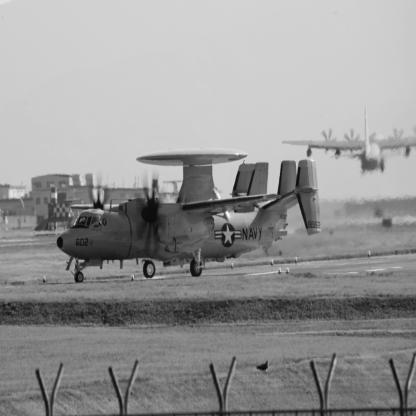C130: (283, 106, 416, 177)
E2: (58, 149, 323, 284)
